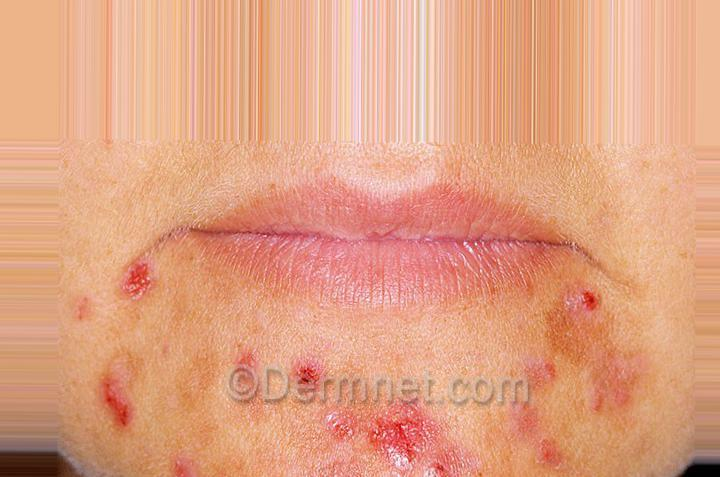Acne: (508, 401, 580, 471), (376, 395, 433, 468), (589, 360, 648, 419), (92, 362, 142, 424), (326, 402, 375, 443), (168, 440, 216, 477), (512, 353, 570, 382), (65, 280, 102, 323), (119, 262, 161, 295), (423, 448, 468, 477), (292, 352, 325, 391), (579, 283, 616, 315), (229, 345, 259, 378)
